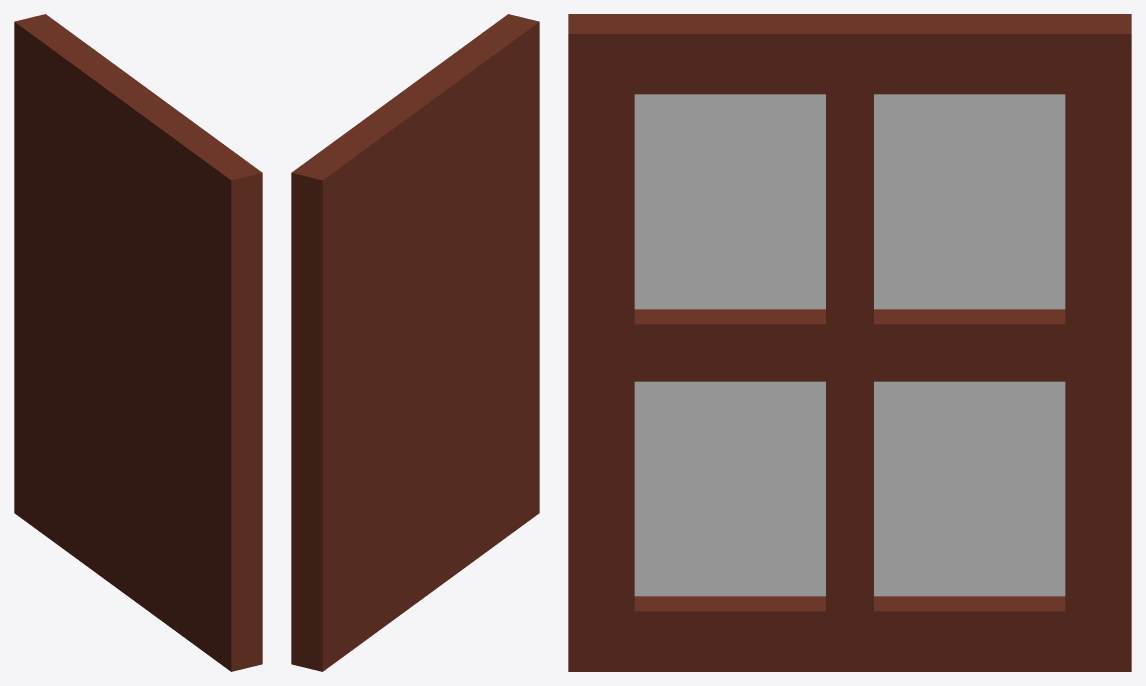
Rendered from window.fbx.
3 views of the same model, side by side, from view 1: azimuth 30°, elevation 25°; view 2: azimuth 150°, elevation 25°; view 3: azimuth 270°, elevation 25° (orthographic). The views are drawn at different scales.
Parts seen in each view (by area): view 1: window; view 2: window; view 3: window.
Boxes of the visible parts, left/top/right/bottom form: window: left=14, top=14, right=262, bottom=671; window: left=291, top=14, right=539, bottom=671; window: left=568, top=14, right=1131, bottom=671.
Size of the model in its own units: 8.64 by 130 by 104.
